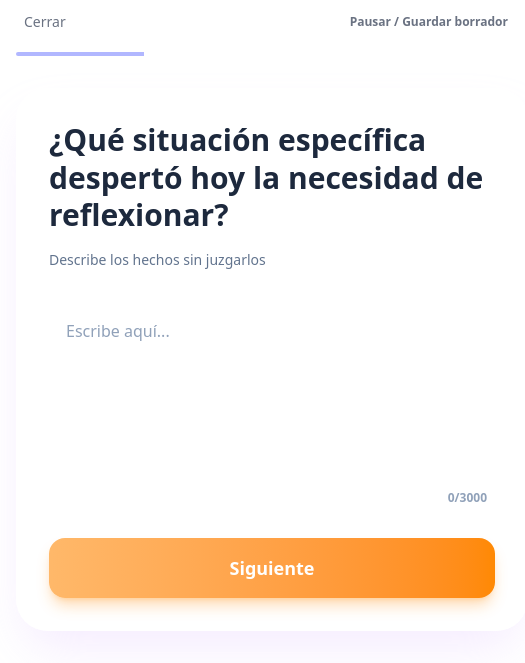
Scenario: NewSessionPage › does not advance from step 1 when the field is empty
Click the button "Siguiente" at point(272, 568), box [49, 538, 495, 598]
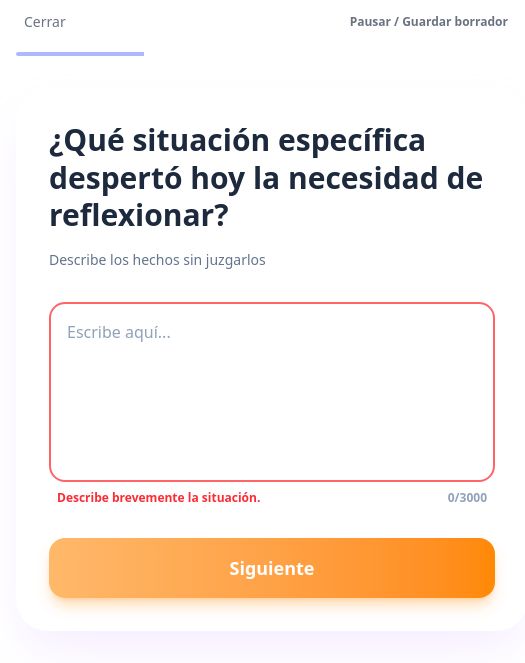
Expected: the text "Describe brevemente la situación." is shown, [57, 490, 260, 506]
